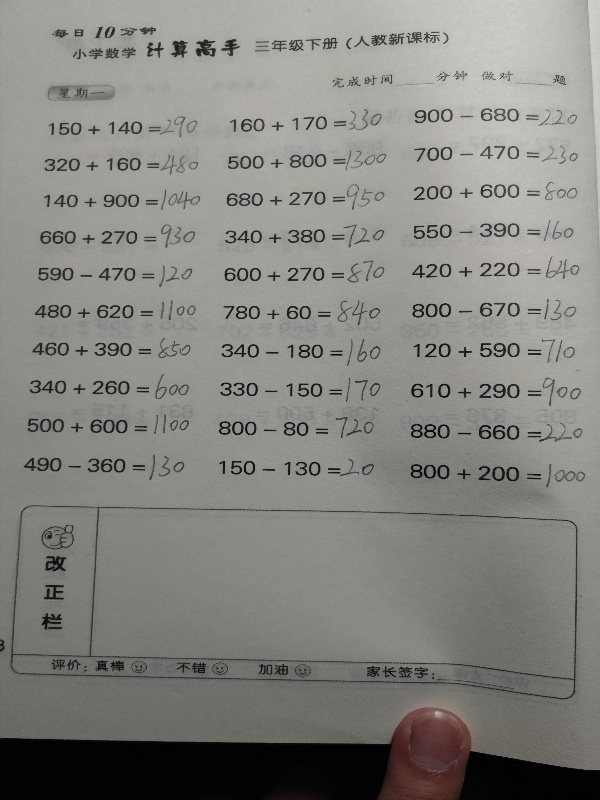equation: (386, 713, 588, 759), (1, 499, 45, 677), (407, 374, 585, 410), (408, 415, 588, 449), (407, 460, 589, 490), (21, 452, 189, 484), (26, 371, 194, 403), (410, 336, 578, 366), (220, 259, 388, 289), (219, 336, 387, 366), (223, 182, 389, 212), (410, 175, 584, 203), (409, 296, 577, 324), (221, 297, 389, 325), (29, 334, 195, 362), (37, 224, 203, 252), (222, 222, 388, 250), (220, 375, 386, 403), (40, 184, 204, 212), (408, 255, 584, 281), (215, 413, 377, 441), (409, 216, 581, 242), (226, 107, 384, 135), (24, 411, 192, 437), (44, 110, 200, 138), (224, 145, 390, 171), (215, 455, 377, 481), (34, 263, 196, 289), (41, 148, 201, 174), (32, 299, 196, 323), (410, 142, 580, 164), (410, 105, 578, 125)
